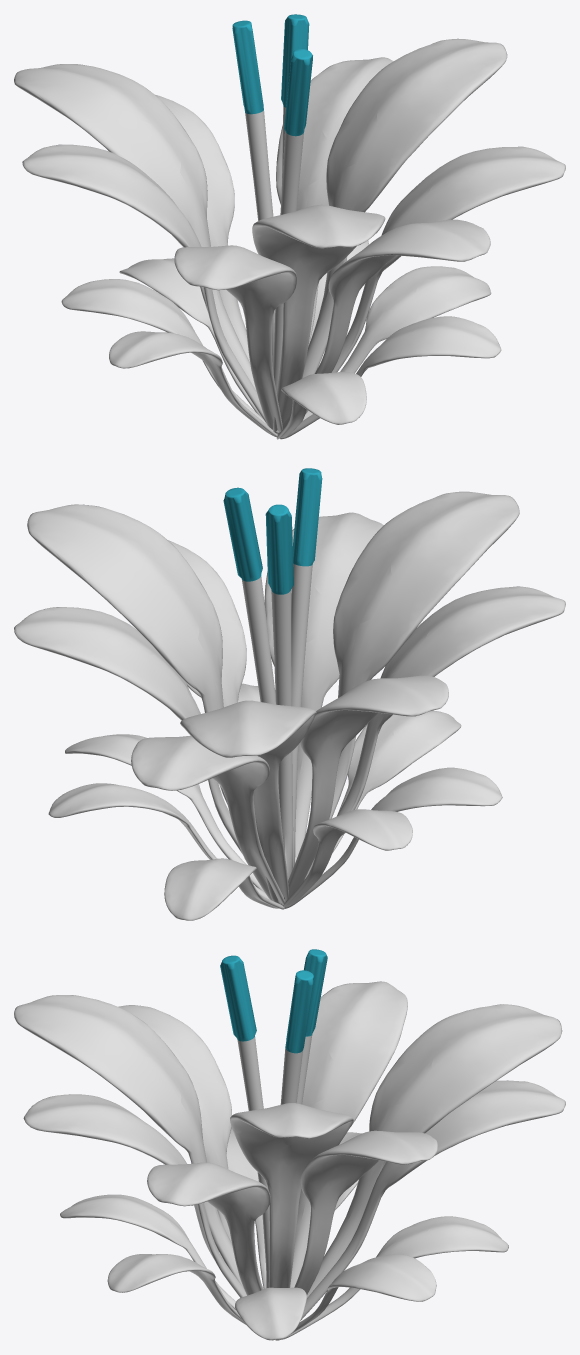
Rendered from Planta.fbx.
3 views of the same model, one above another, from view 1: azimuth 30°, elevation 25°; view 2: azimuth 150°, elevation 25°; view 3: azimuth 270°, elevation 25° (orthographic). The views are drawn at different scales.
Parts seen in each view (by area): view 1: Plane.037_Plane.025; view 2: Plane.037_Plane.025; view 3: Plane.037_Plane.025.
Part boxes in pixels (x1,y1,x2,y2): Plane.037_Plane.025: [14, 14, 565, 439]; Plane.037_Plane.025: [14, 468, 565, 920]; Plane.037_Plane.025: [14, 949, 565, 1340].
Bounding box in the file's own units: 3550 × 3151 × 4146.
